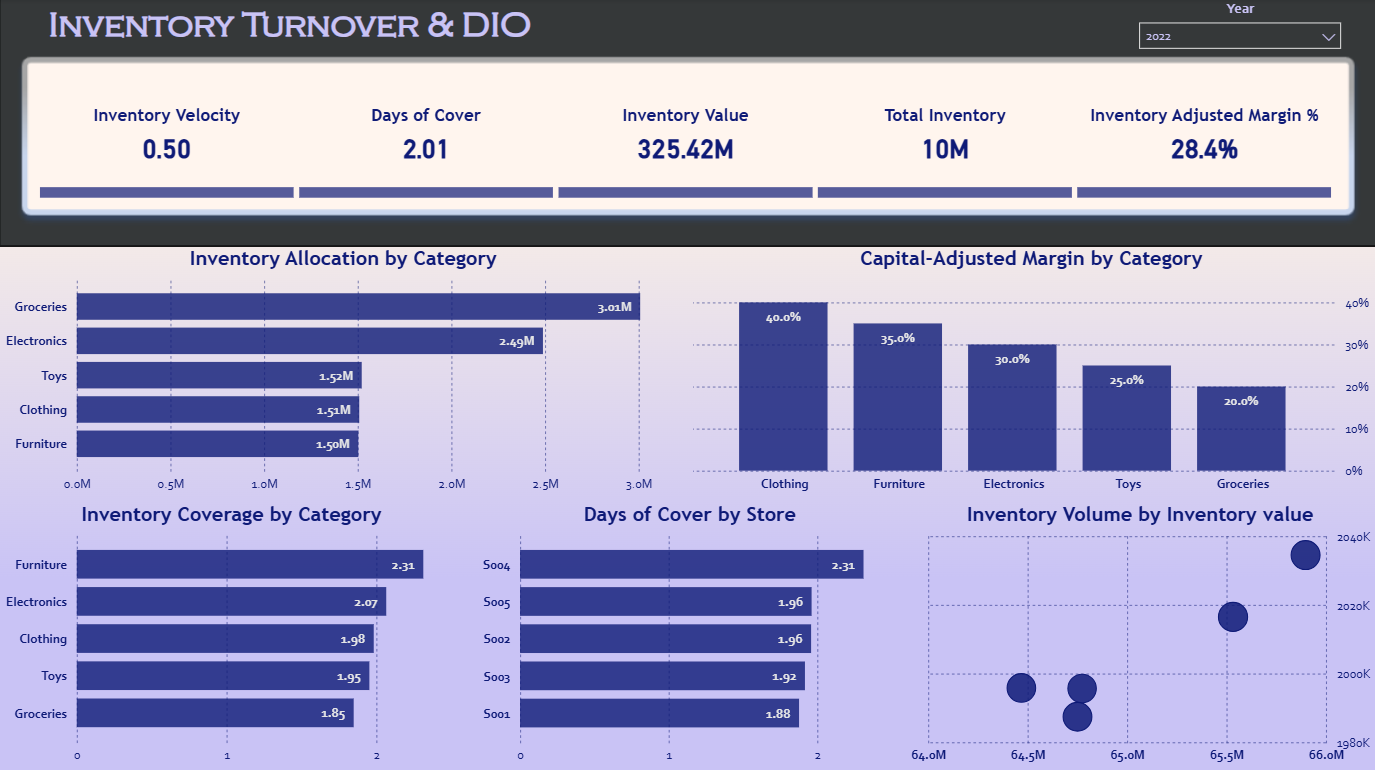

The dashboard page shown, as its layout file describes it:
{"tool":"powerbi","page":{"name":"Inventory Turnover & DIO","canvas":[1280,720],"ordinal":1},"visuals":[{"type":"cardVisual","fields":{"Data":["_Measure.Inventor Velocity","_Measure.Days of Cover","_Measure.Inventory Value","_Measure.Total Inventory","_Measure.Inventory Adjusted Margin %"]},"box":[31.9,60.7,1213.4,130.9],"z":0},{"type":"barChart","title":"Inventory Coverage by Category","fields":{"Y":["_Measure.Days of Cover"],"Category":["dim_product.category"]},"box":[0,467.5,431.9,252.1],"z":1000},{"type":"barChart","title":"Inventory Allocation by Category","fields":{"Y":["_Measure.Total Inventory"],"Category":["dim_product.category"]},"box":[0,229.9,639.7,237.4],"z":2000},{"type":"barChart","title":"Days of Cover by Store","fields":{"Y":["_Measure.Days of Cover"],"Category":["fact_inventory_sales_daily.store_id"]},"box":[442.8,467.3,398.1,252.3],"z":3000},{"type":"scatterChart","title":"Inventory Volume by Inventory value","fields":{"X":["_Measure.Inventory Value"],"Y":["_Measure.Total Inventory"],"Category":["fact_inventory_sales_daily.store_id"],"Size":["_Measure.Gross Profit"]},"box":[840.9,467.3,438.5,252.3],"z":4000},{"type":"clusteredColumnChart","title":"Capital-Adjusted Margin by Category","fields":{"Y":["_Measure.Inventory Adjusted Margin %"],"Category":["dim_product.category"]},"box":[639.7,229.9,638.7,237.4],"z":5000},{"type":"slicer","title":"Year","fields":{"Values":["dim_date.year"]},"box":[1049.5,0,207.6,52.2],"z":6000}]}

Visuals, with their boxes in screenshot pixels (x1, y1, x2, y2), scaled from the page's 1280x720 canvas onto the 1375x770 screenshot:
cardVisual - _Measure.Inventor Velocity x _Measure.Days of Cover: l=34, t=65, r=1338, b=205
"Inventory Coverage by Category" barChart: l=0, t=500, r=464, b=769
"Inventory Allocation by Category" barChart: l=0, t=246, r=687, b=500
"Days of Cover by Store" barChart: l=476, t=500, r=903, b=769
"Inventory Volume by Inventory value" scatterChart: l=903, t=500, r=1374, b=769
"Capital-Adjusted Margin by Category" clusteredColumnChart: l=687, t=246, r=1373, b=500
"Year" slicer: l=1127, t=0, r=1350, b=56
